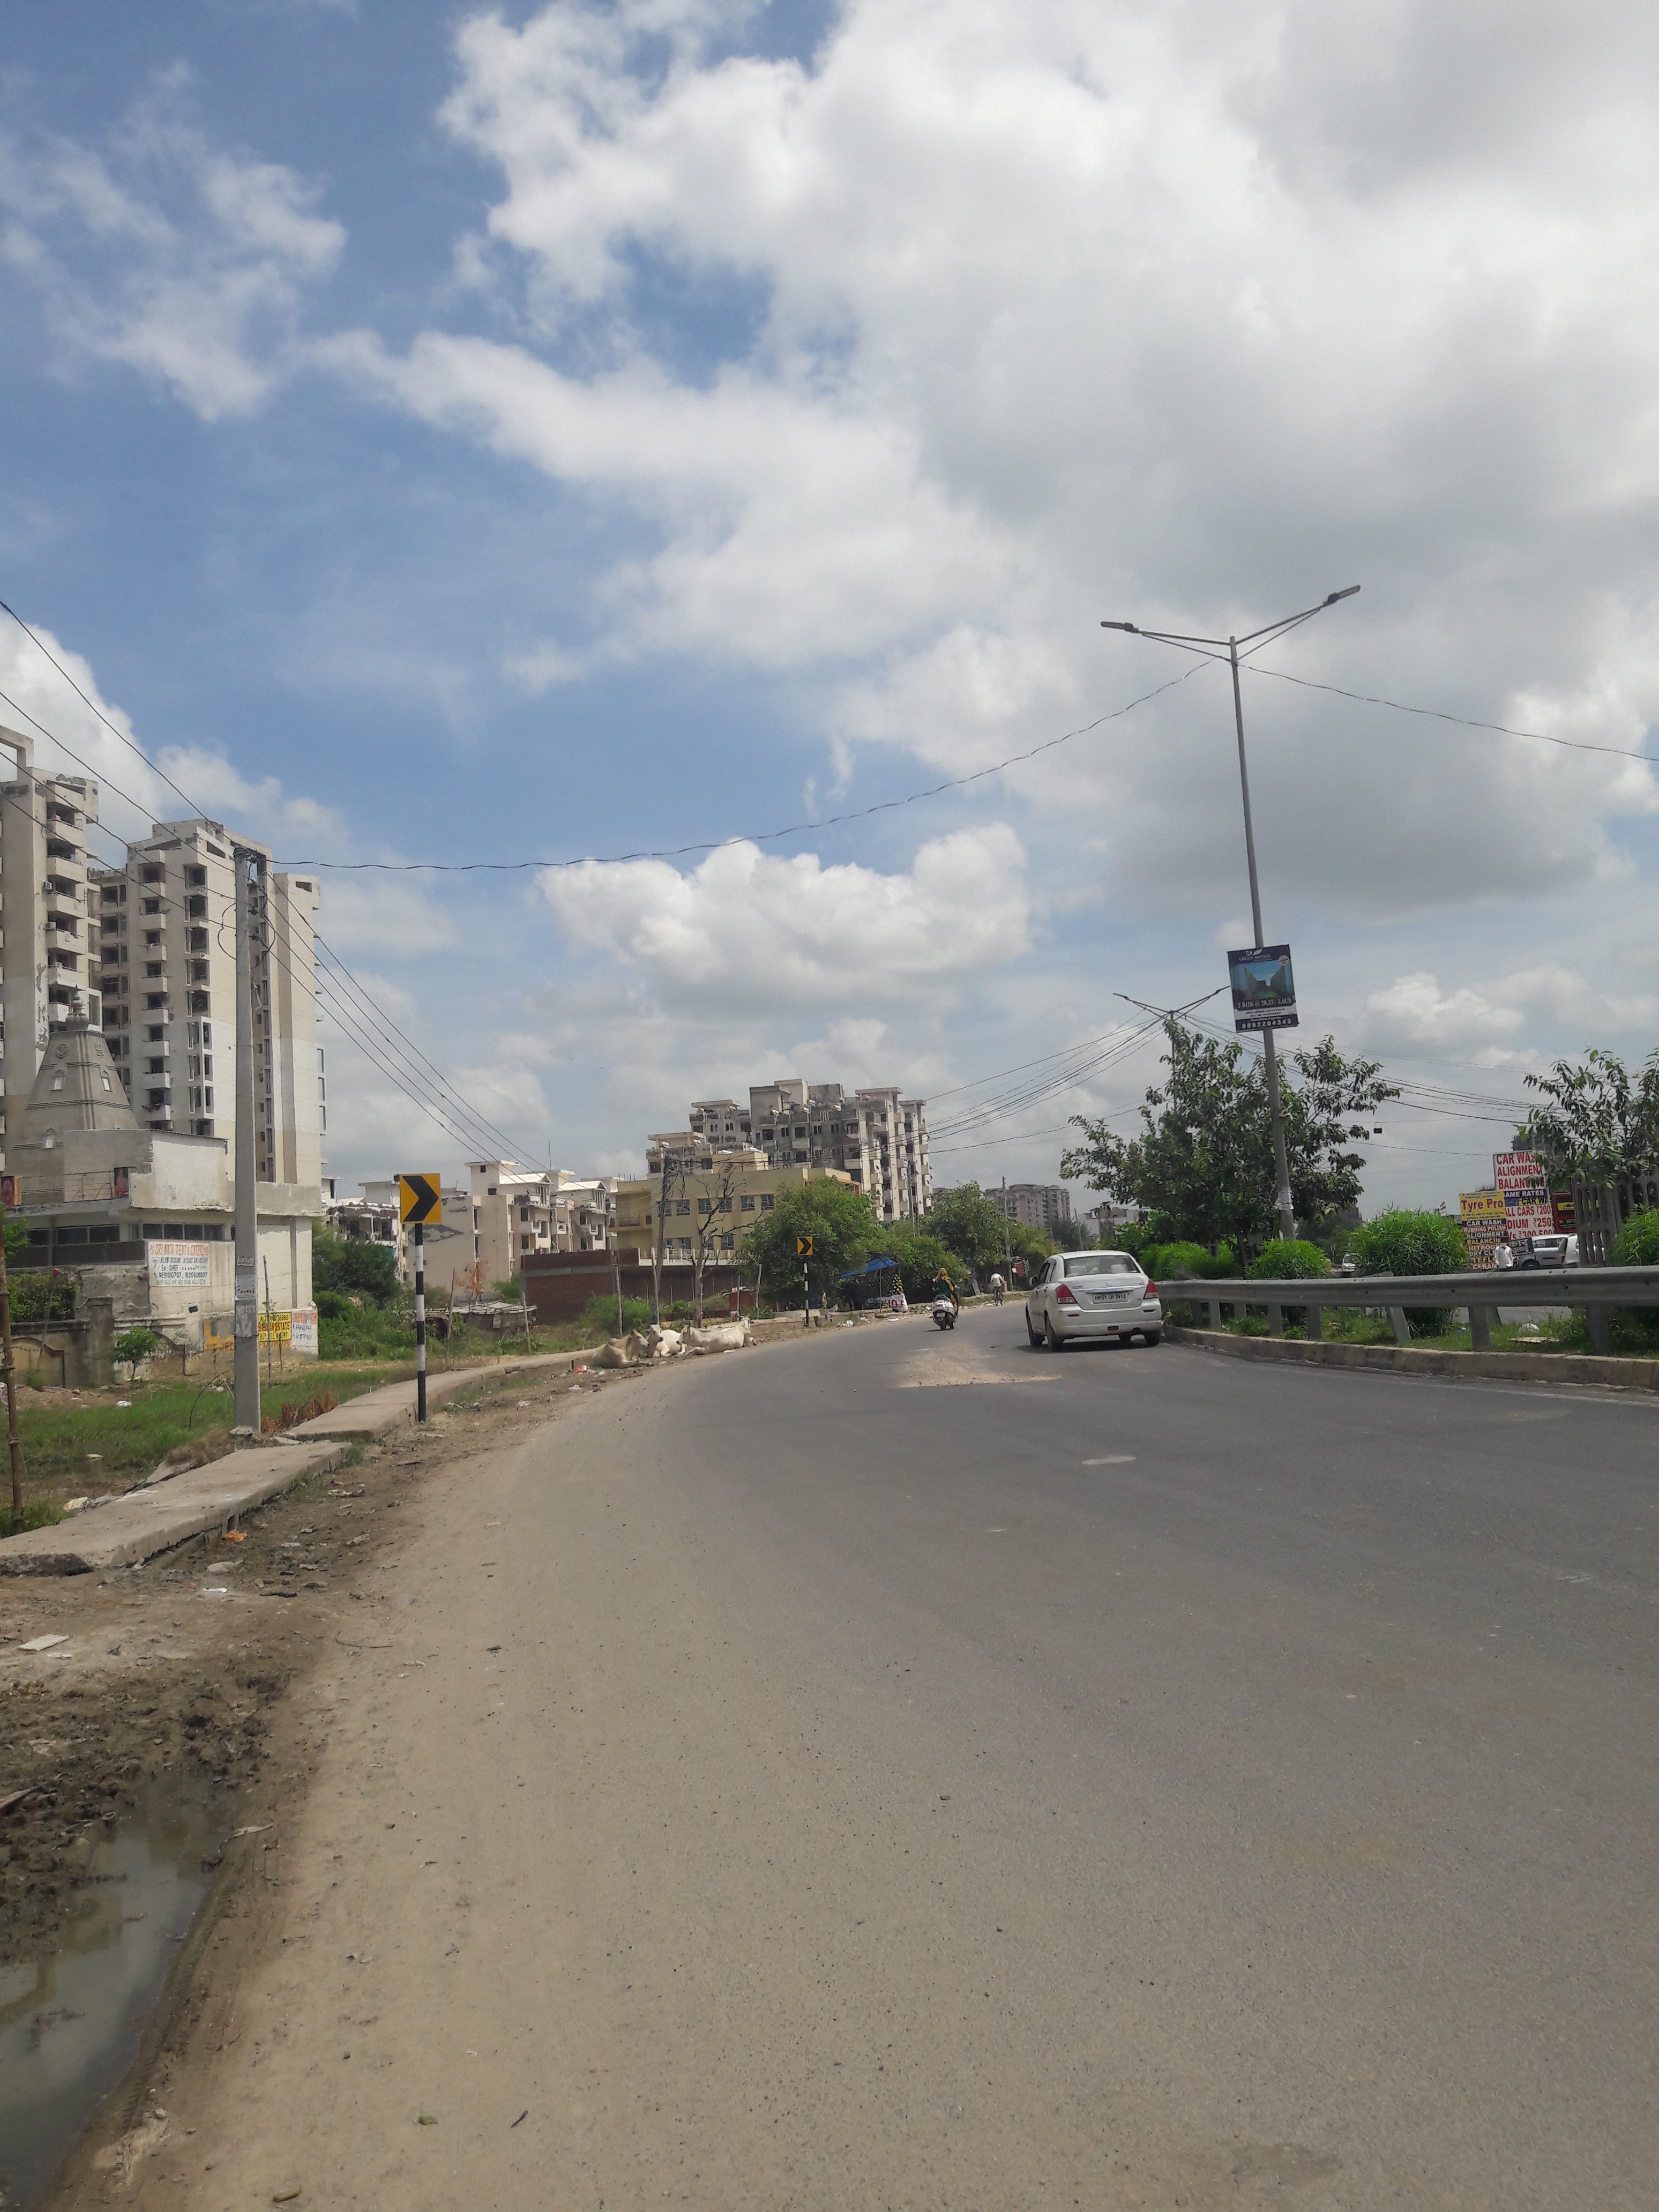traffic_sign: (392, 1176, 443, 1228), (796, 1237, 812, 1256)
